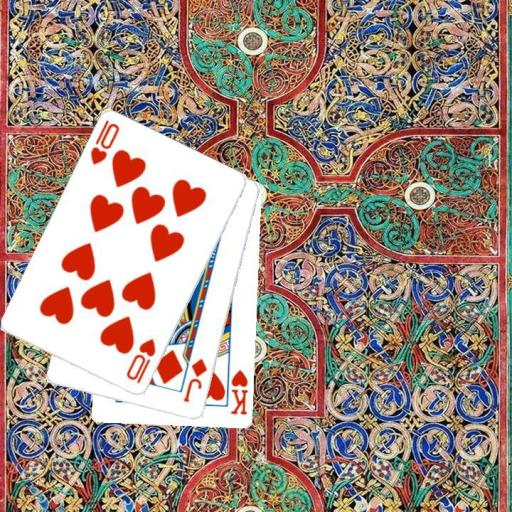10H: (123, 336, 157, 386), (88, 117, 122, 167)
JD: (180, 355, 209, 404)
KH: (228, 367, 250, 417)
